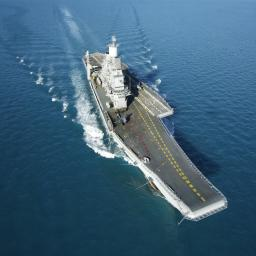Portanaves: (81, 33, 239, 227)
